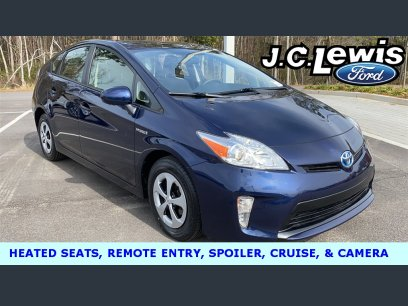Toyota Prius: (33, 40, 374, 241)
